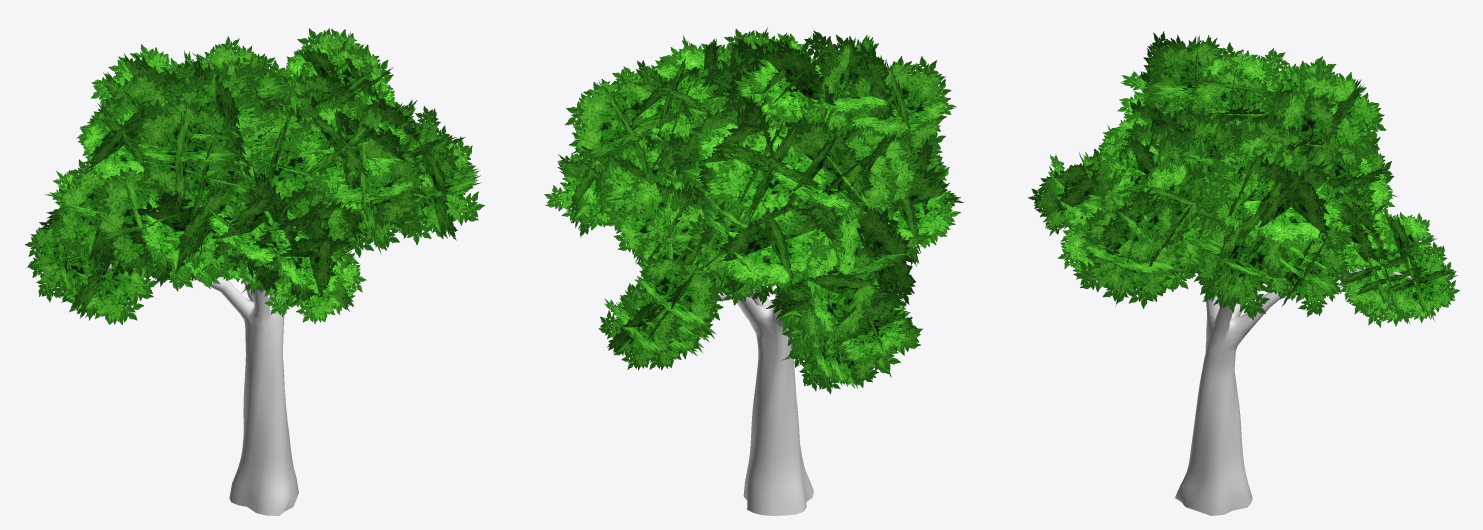
File: Oak.fbx
The picture shows the model from 3 angles, left to right: view 1: azimuth 30°, elevation 25°; view 2: azimuth 150°, elevation 25°; view 3: azimuth 270°, elevation 25°; orthographic projection. The views are drawn at different scales.
Visible parts, largest first — view 1: Plane.019, RetopoFlow; view 2: Plane.019, RetopoFlow; view 3: Plane.019, RetopoFlow.
Boxes of the visible parts, x1=… form: Plane.019: x1=25, y1=28, x2=484, y2=324; RetopoFlow: x1=108, y1=264, x2=298, y2=515; Plane.019: x1=544, y1=27, x2=963, y2=394; RetopoFlow: x1=633, y1=149, x2=813, y2=515; Plane.019: x1=1028, y1=31, x2=1459, y2=327; RetopoFlow: x1=1175, y1=177, x2=1412, y2=515.
Bounding box in the file's own units: 1568 × 1833 × 1669.
